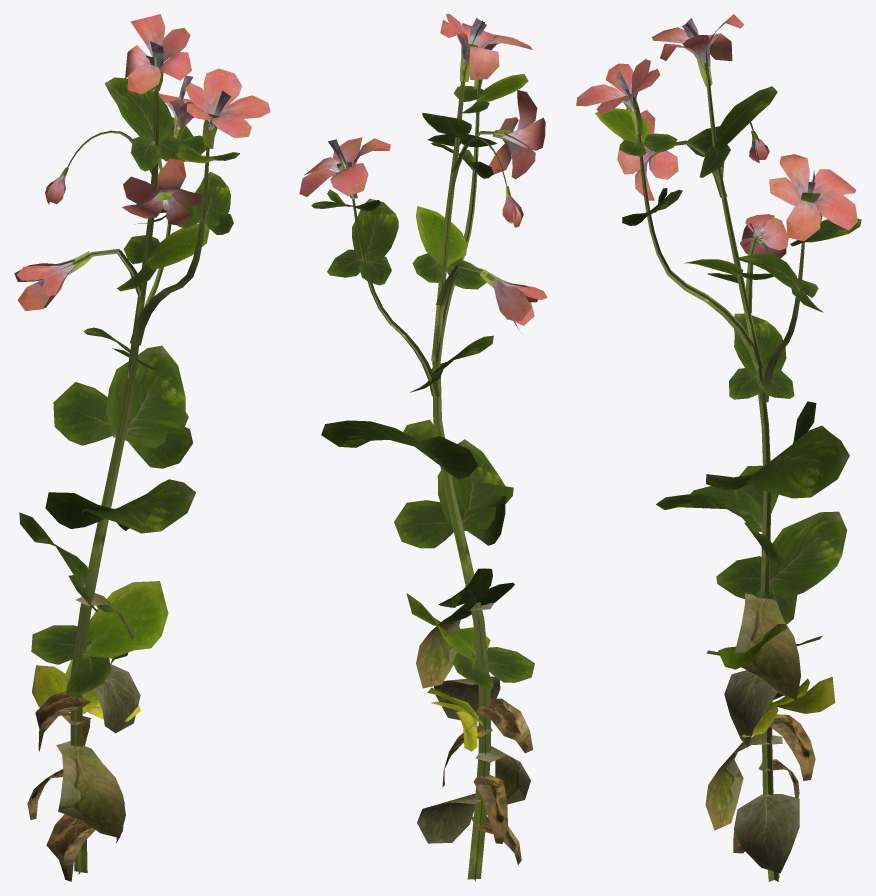
The model's file is Periwinkle_OG_normal_peach.glb.
The picture shows the model from 3 angles, left to right: view 1: azimuth 30°, elevation 25°; view 2: azimuth 150°, elevation 25°; view 3: azimuth 270°, elevation 25°; orthographic projection. The views are drawn at different scales.
Parts seen in each view (by area): view 1: _419c_Var3_LOD1; view 2: _419c_Var3_LOD1; view 3: _419c_Var3_LOD1.
Boxes of the visible parts, x1,y1,x2,y2 form: _419c_Var3_LOD1: [14, 14, 270, 881]; _419c_Var3_LOD1: [299, 14, 547, 881]; _419c_Var3_LOD1: [576, 14, 861, 881].
Bounding box in the file's own units: 0.6129 × 2.19 × 0.6394.
1 material, 1 textured.
